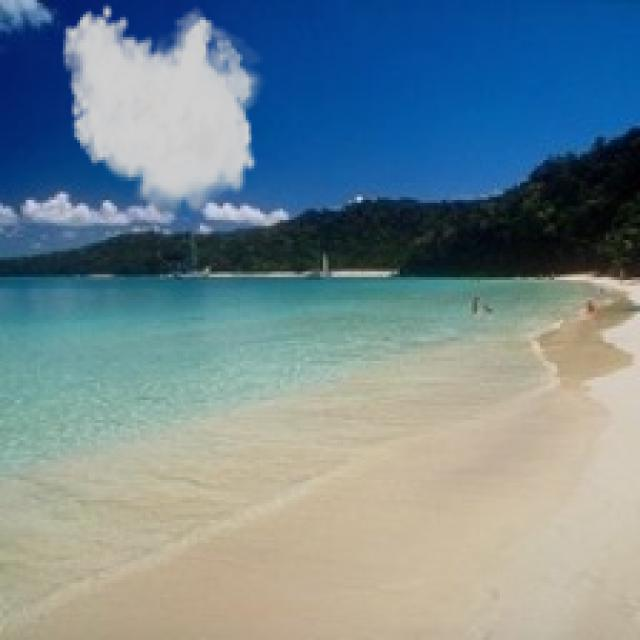smoke: (60, 3, 269, 223)
